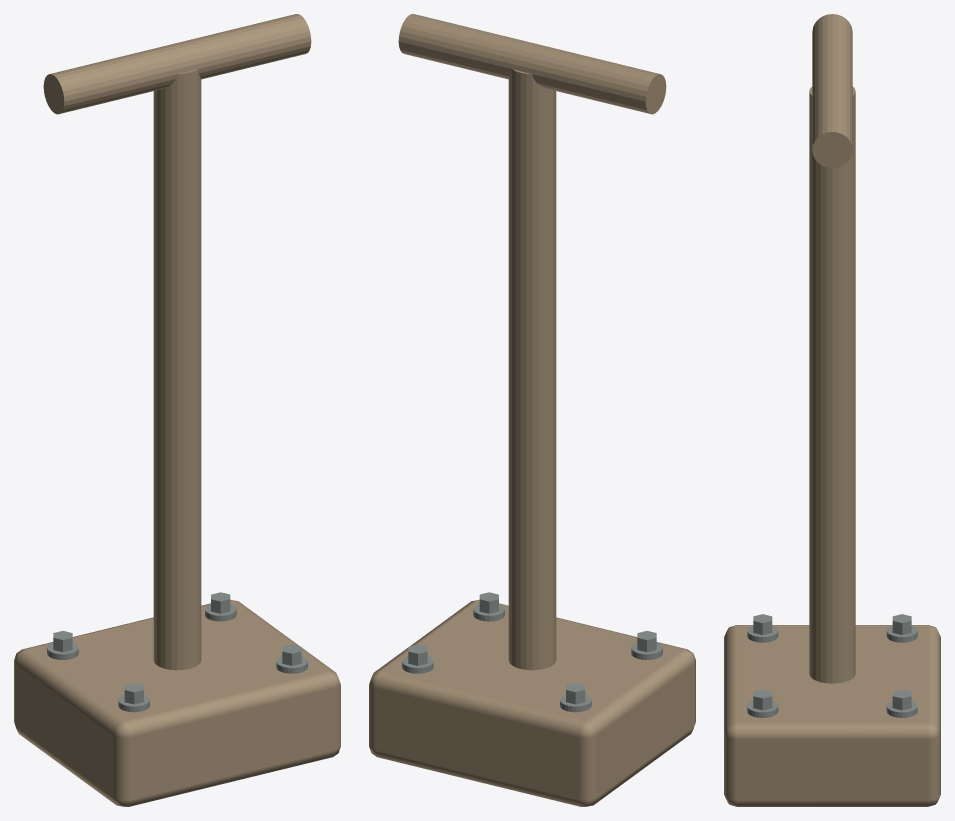
The model's file is coastal-saltworks-and-trade-port-coastal-saltworks-and-4d29627b__31384.glb.
3 views of the same model, side by side, from view 1: azimuth 30°, elevation 25°; view 2: azimuth 150°, elevation 25°; view 3: azimuth 270°, elevation 25° (orthographic). The views are drawn at different scales.
Parts seen in each view (by area): view 1: coastal-saltworks-and-trade-port-mud-tamping-tool; view 2: coastal-saltworks-and-trade-port-mud-tamping-tool; view 3: coastal-saltworks-and-trade-port-mud-tamping-tool.
Boxes of the visible parts, x1,y1,x2,y2 form: coastal-saltworks-and-trade-port-mud-tamping-tool: [14, 14, 340, 806]; coastal-saltworks-and-trade-port-mud-tamping-tool: [369, 14, 695, 806]; coastal-saltworks-and-trade-port-mud-tamping-tool: [724, 14, 940, 806].
Size of the model in its own units: 0.36 by 0.976 by 0.28.
